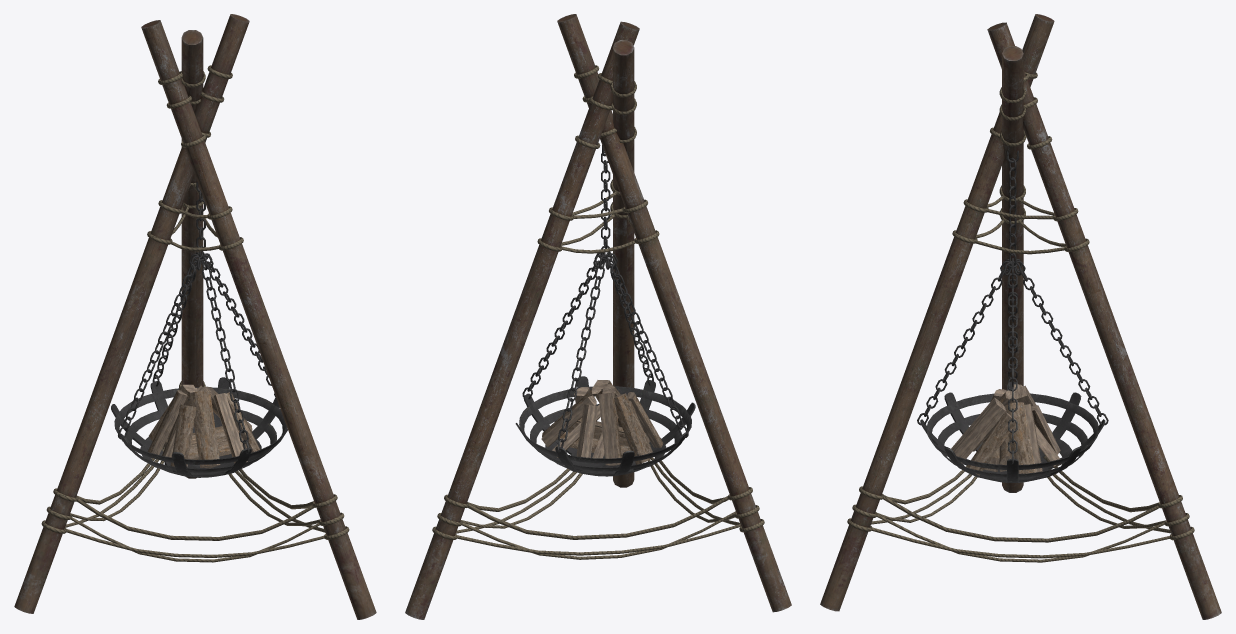
File: groundBrazier.gltf
3 views of the same model, side by side, from view 1: azimuth 30°, elevation 25°; view 2: azimuth 150°, elevation 25°; view 3: azimuth 270°, elevation 25° (orthographic).
Parts seen in each view (by area): view 1: GroundBrazier_01, Wood_Fire_01; view 2: GroundBrazier_01, Wood_Fire_01; view 3: GroundBrazier_01, Wood_Fire_01.
Boxes of the visible parts, left/top/right/bottom form: GroundBrazier_01: left=14, top=14, right=376, bottom=619; Wood_Fire_01: left=147, top=384, right=260, bottom=468; GroundBrazier_01: left=405, top=14, right=791, bottom=619; Wood_Fire_01: left=541, top=380, right=663, bottom=465; GroundBrazier_01: left=820, top=14, right=1221, bottom=619; Wood_Fire_01: left=951, top=384, right=1061, bottom=477.
Bounding box in the file's own units: 1.36 × 2.49 × 1.67.
2 materials, 2 textured.
